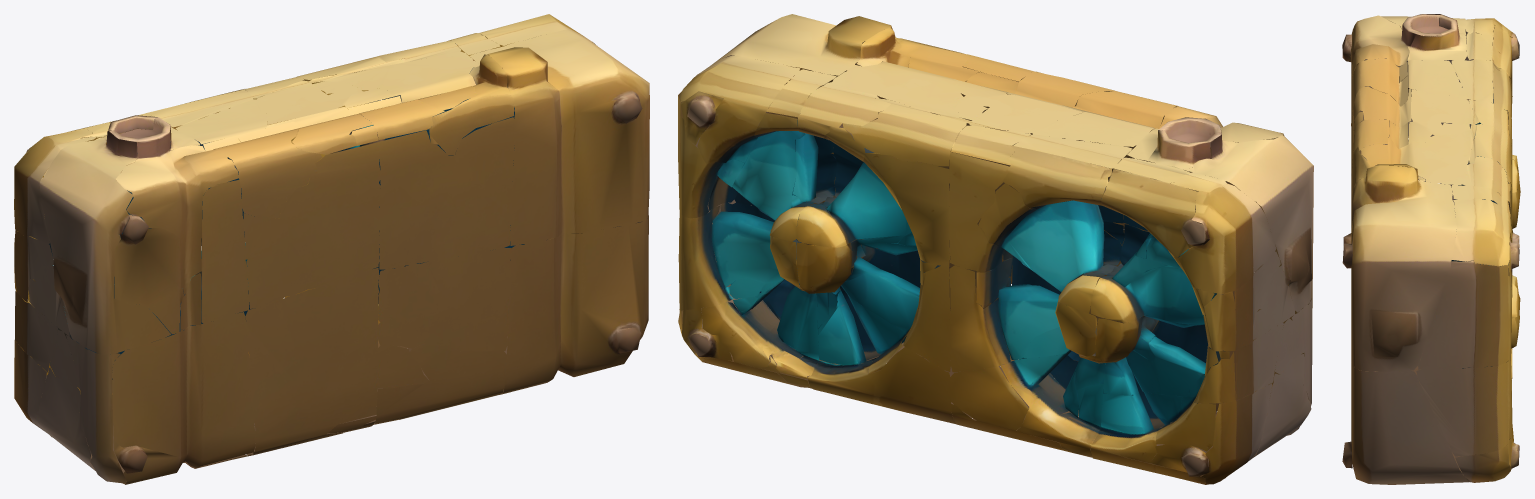
The model's file is TH_TwinFans.fbx.
The picture shows the model from 3 angles, left to right: view 1: azimuth 30°, elevation 25°; view 2: azimuth 150°, elevation 25°; view 3: azimuth 270°, elevation 25°; orthographic projection. The views are drawn at different scales.
Visible parts, largest first — view 1: TH_TwinFans; view 2: TH_TwinFans; view 3: TH_TwinFans.
Boxes of the visible parts, bbox=[...] form: TH_TwinFans: bbox=[14, 14, 649, 484]; TH_TwinFans: bbox=[678, 14, 1313, 484]; TH_TwinFans: bbox=[1342, 14, 1520, 484].
Bounding box in the file's own units: 1 × 0.5295 × 0.3115.
1 material, 1 textured.
